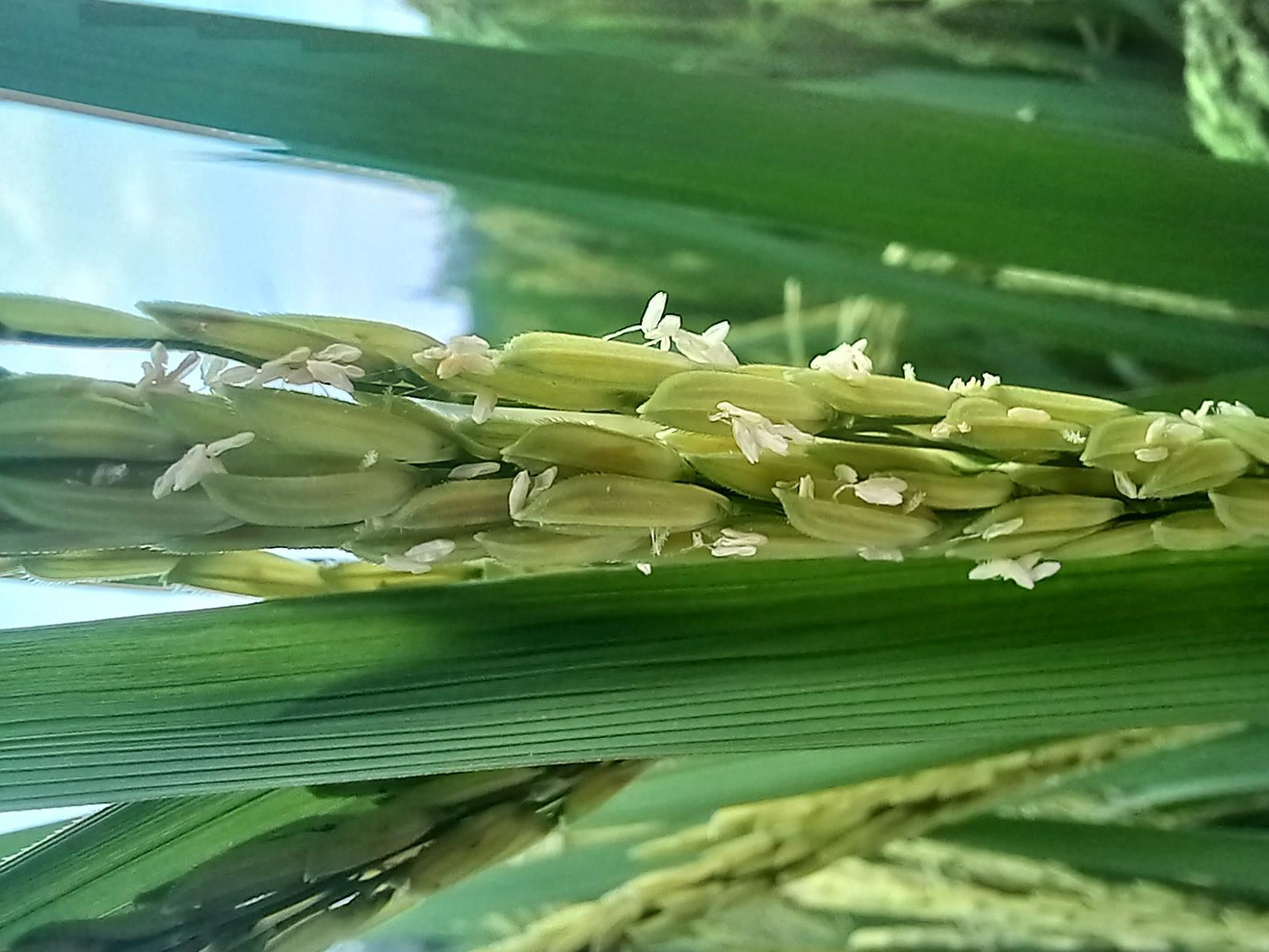Healthy: (191, 0, 536, 951)
